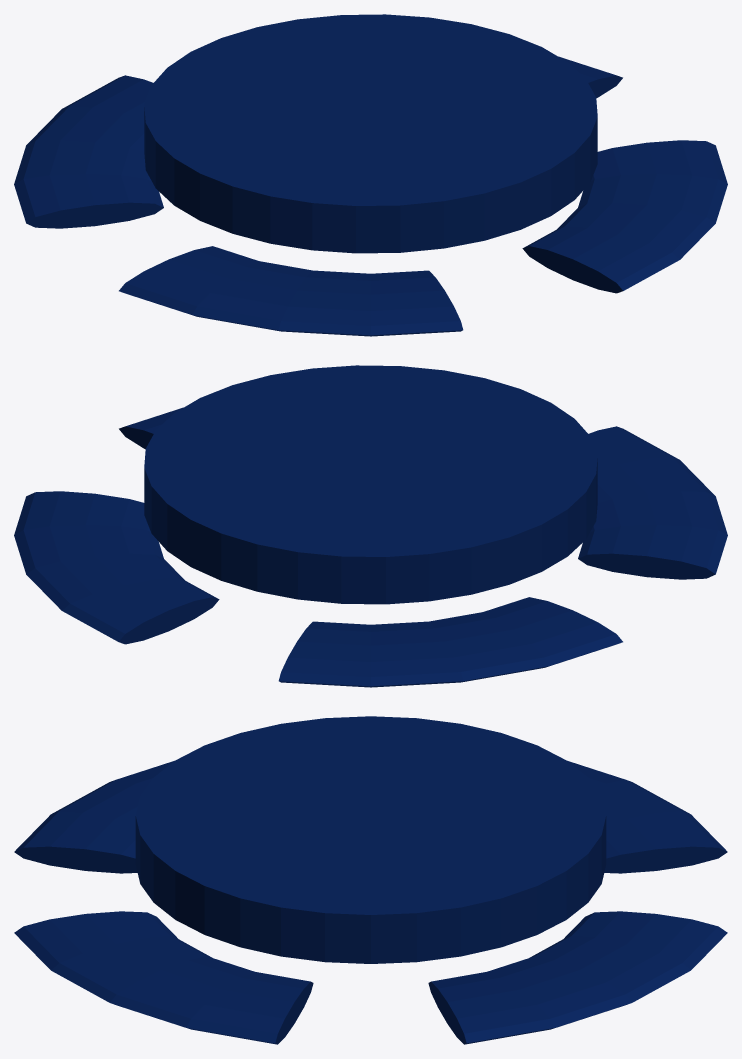
The model's file is table.obj.
The picture shows the model from 3 angles, top to bottom: view 1: azimuth 30°, elevation 25°; view 2: azimuth 150°, elevation 25°; view 3: azimuth 270°, elevation 25°; orthographic projection. The views are drawn at different scales.
Parts seen in each view (by area): view 1: Cylinder; view 2: Cylinder; view 3: Cylinder.
Part boxes in pixels (x1,y1,x2,y2): Cylinder: (14, 14, 727, 336); Cylinder: (14, 365, 727, 687); Cylinder: (14, 716, 727, 1044).
Size of the model in its own units: 9.11 by 1.38 by 9.11.
